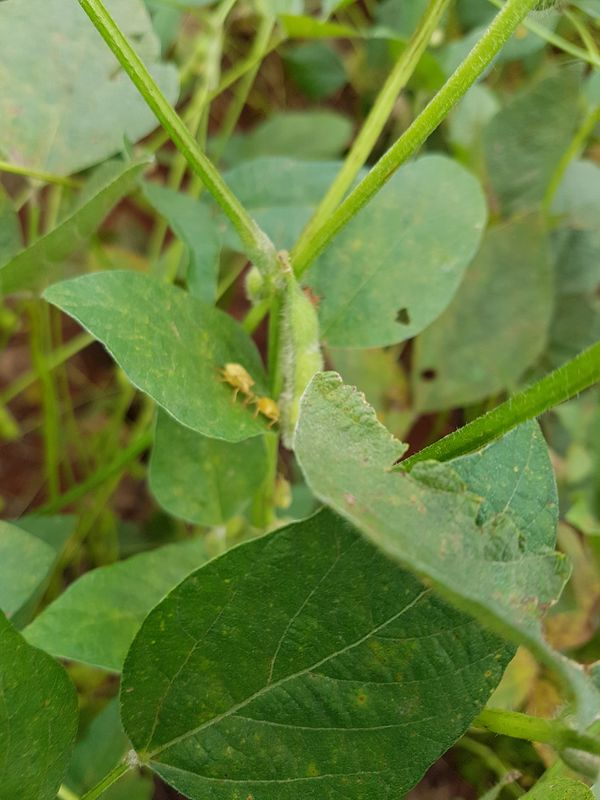Euschistus_heros_ninfa: (210, 357, 257, 398), (252, 395, 290, 428)
